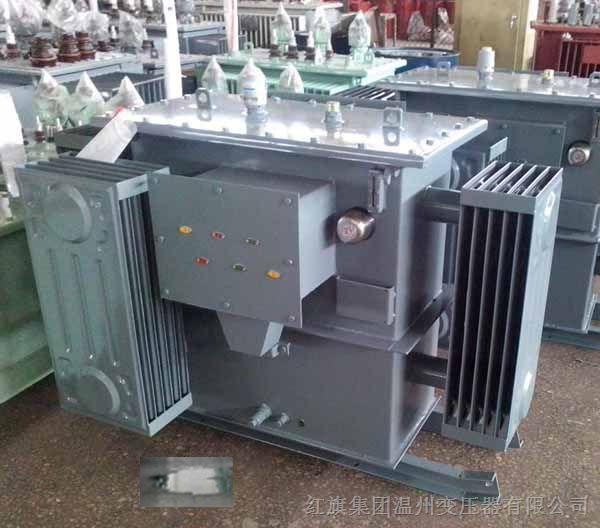oil: (140, 454, 234, 504)
